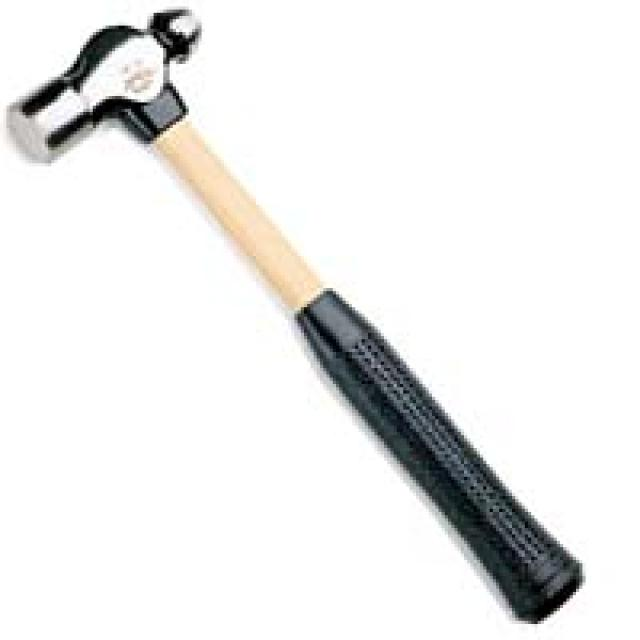hammer: (12, 0, 515, 454)
